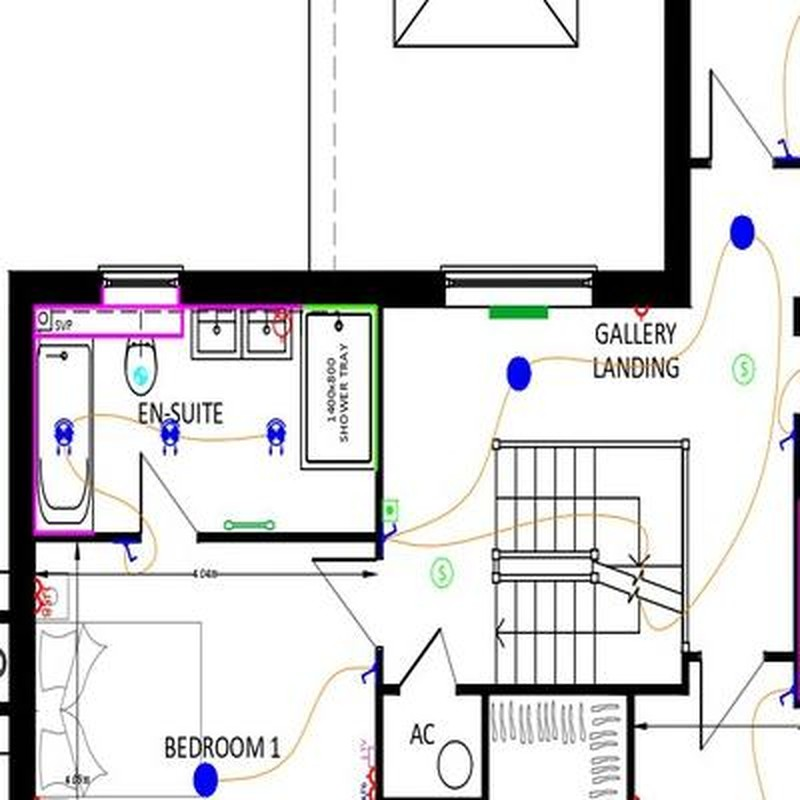Ceiling Mounted Continuous Extract FanWith Boost Mode Activated By Light Switch: (134, 367, 148, 385)
Co-Ax TV Socket: (358, 739, 376, 766)
Double Socket: (365, 769, 377, 800)
Light Switch: (118, 543, 139, 562), (776, 139, 794, 158), (779, 687, 794, 707), (779, 431, 793, 452), (362, 663, 375, 684), (384, 522, 397, 542)
Low Energy Downlighter: (53, 419, 75, 456), (266, 418, 287, 455), (160, 419, 180, 455)
Low Energy Pendant Light: (507, 356, 532, 391), (730, 215, 755, 250), (194, 763, 218, 797)
Mains Wired Smoke Detector: (731, 355, 755, 384), (431, 558, 454, 588)
Programmable Room Thermostat: (383, 500, 398, 521)
Radiator: (489, 305, 548, 319)
Shaver Socket: (272, 308, 295, 343)
Single Socket: (633, 306, 650, 322)
USB Double Socket: (34, 578, 54, 616)
